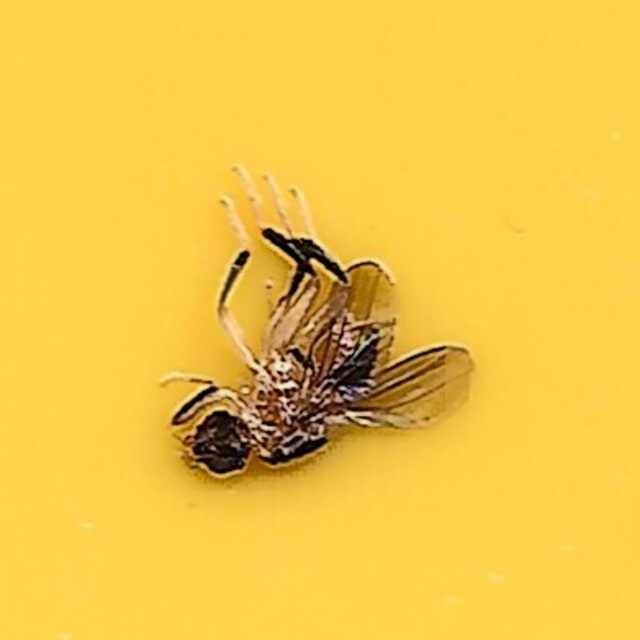Brachycera: (164, 162, 476, 478)
